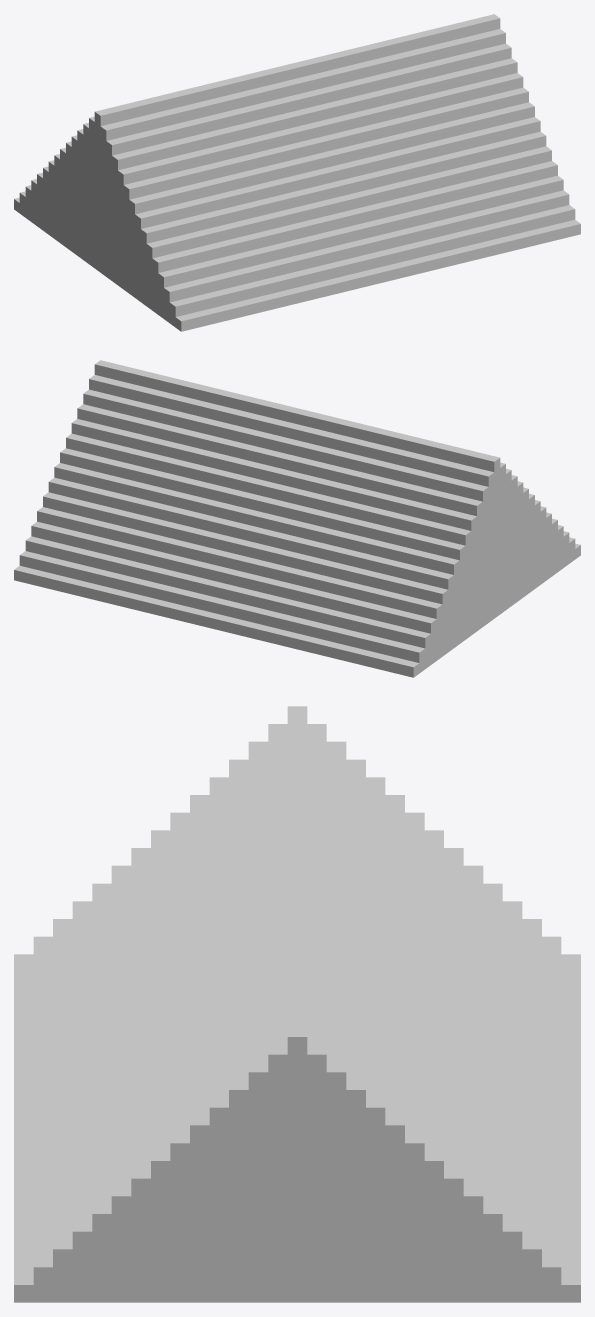
Rendered from ConstructionMaterials-15.obj.
3 views of the same model, one above another, from view 1: azimuth 30°, elevation 25°; view 2: azimuth 150°, elevation 25°; view 3: azimuth 270°, elevation 25° (orthographic). The views are drawn at different scales.
Bounding box in the file's own units: 4 × 1.5 × 2.9.
Materials: 1 (1 with a texture image).
